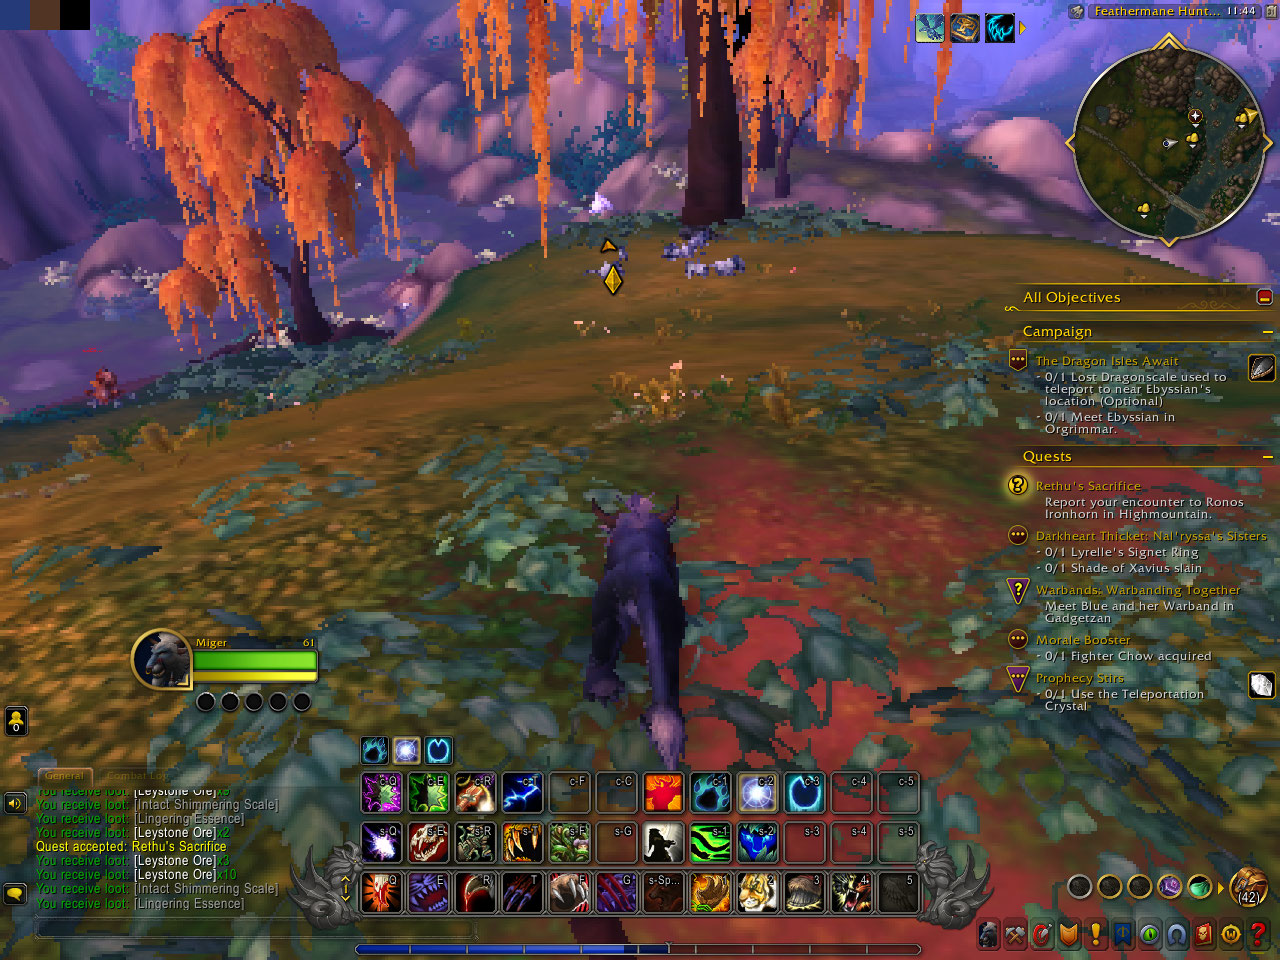ore: (582, 190, 616, 226)
